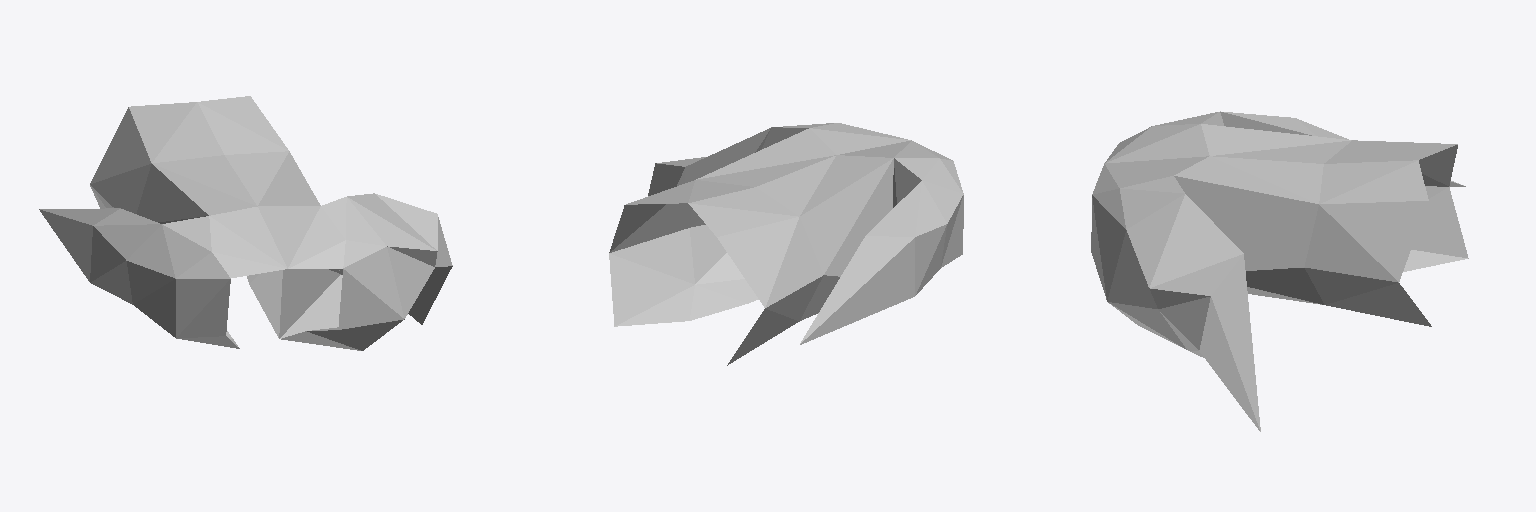
File: joe_top.obj
The picture shows the model from 3 angles: view 1: azimuth 30°, elevation 25°; view 2: azimuth 150°, elevation 25°; view 3: azimuth 270°, elevation 25°; orthographic projection.
Bounding box in the file's own units: 1.72 × 1.06 × 1.8.